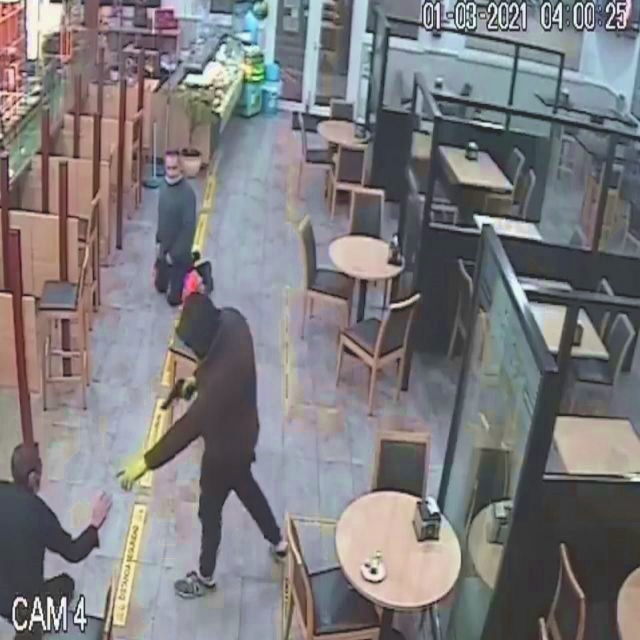gun: (147, 365, 205, 421)
